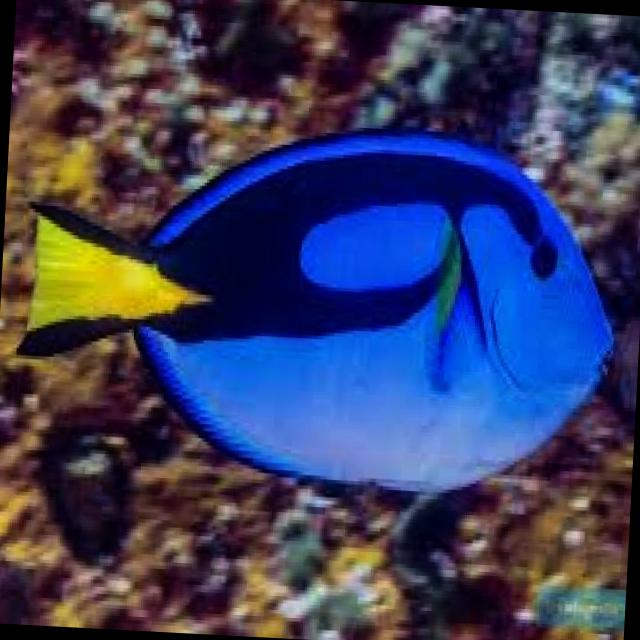TangFish: (12, 102, 626, 509)
